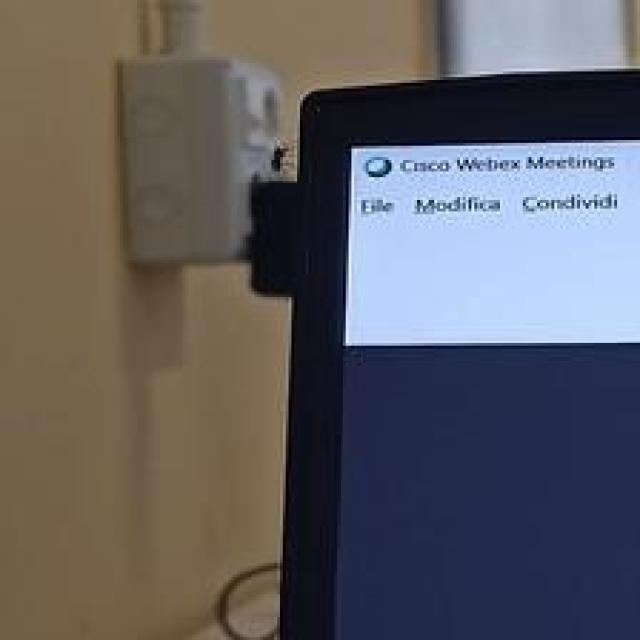Aedes albopictus: (115, 0, 292, 269)
